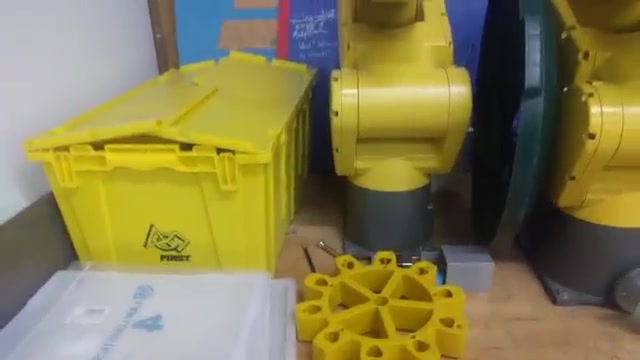gear: (293, 253, 472, 360)
